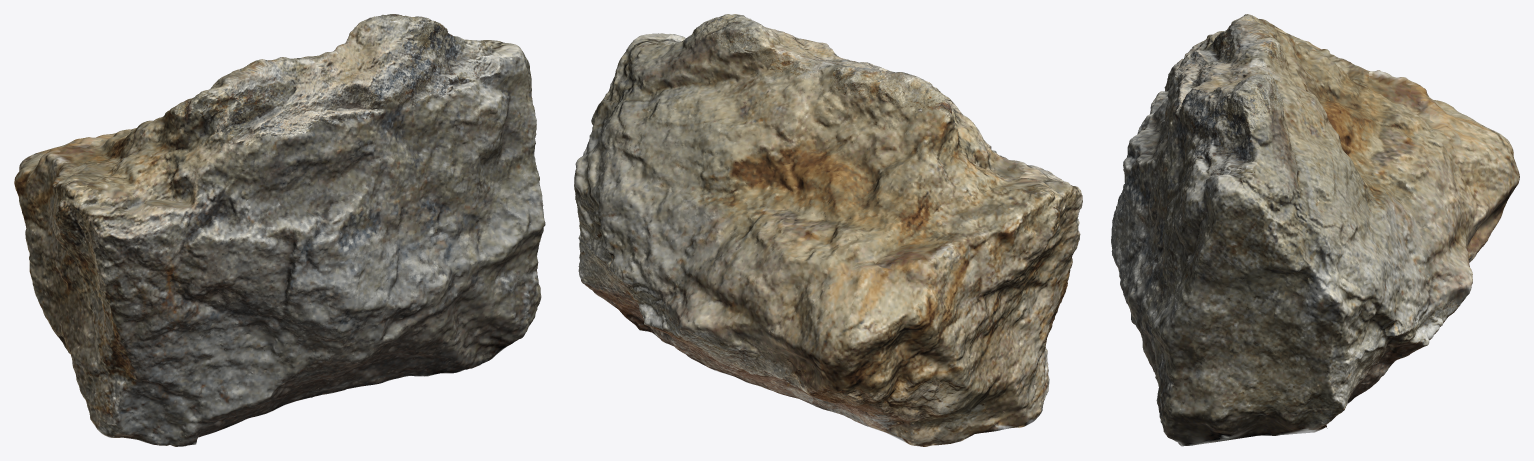
File: sparse1.glb
3 views of the same model, side by side, from view 1: azimuth 30°, elevation 25°; view 2: azimuth 150°, elevation 25°; view 3: azimuth 270°, elevation 25° (orthographic). The views are drawn at different scales.
Visible parts, largest first — view 1: Node; view 2: Node; view 3: Node.
Part boxes in pixels (x1,y1,x2,y2): Node: (14,14,545,446); Node: (574,14,1082,446); Node: (1111,14,1519,446).
Size of the model in its own units: 3.99 by 2.91 by 3.02.
1 material, 1 textured.
